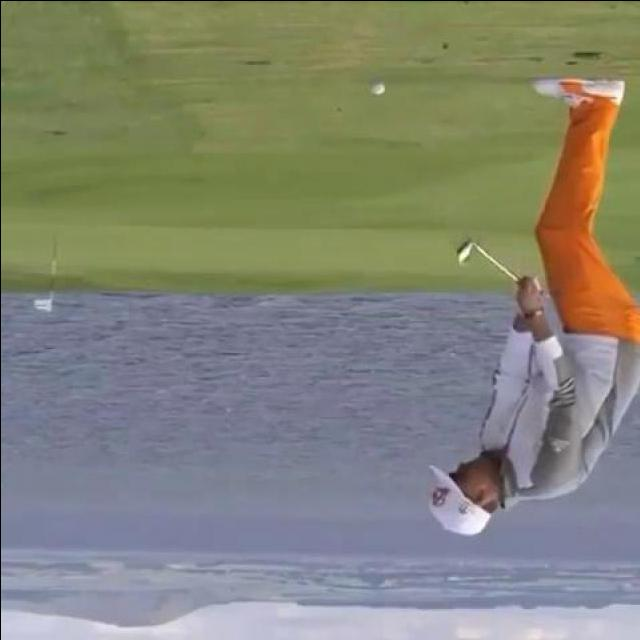golf ball: (367, 79, 384, 93)
golf club-handle: (454, 238, 521, 281)
golf club-head: (455, 240, 472, 264)
